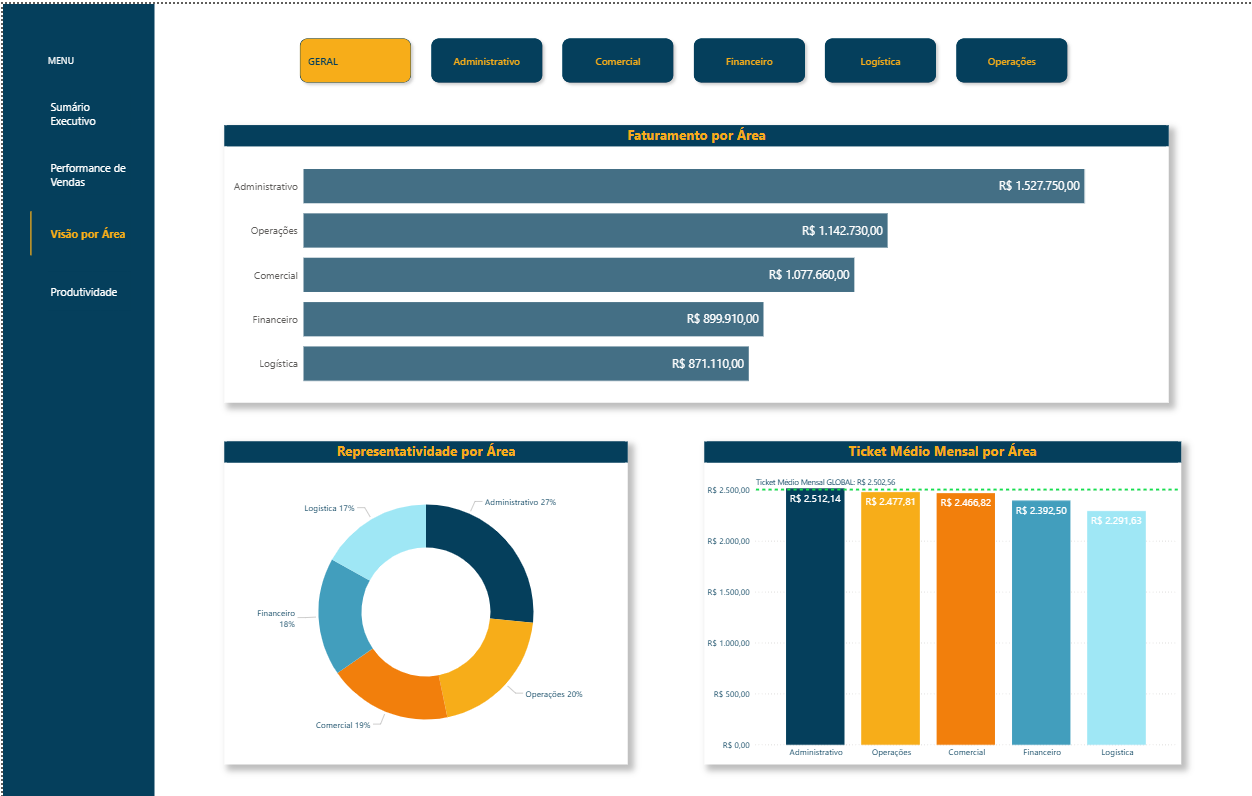

Layout of this report page (visuals, bound fields, positions):
{"tool":"powerbi","page":{"name":"Visão por Área ","canvas":[2000,1400],"ordinal":2},"visuals":[{"type":"advancedSlicerVisual","fields":{"Values":["dCadastroFuncionarios.Area"]},"box":[457.1,37.1,1265.7,105.7],"z":0},{"type":"clusteredBarChart","title":"Faturamento por Área","fields":{"Category":["Ranking_Top5_Vendas.Area"],"Y":["Tab_Medidas.Soma Valor Total Contratos"]},"box":[354.3,194.3,1511.4,444.3],"z":1000},{"type":"donutChart","title":"Representatividade por Área ","fields":{"Category":["dCadastroFuncionarios.Area"],"Y":["Tab_Medidas.Total Contratos Fechados"]},"box":[354.3,700,645.7,517.1],"z":2000},{"type":"clusteredColumnChart","title":"Ticket Médio Mensal por Área ","fields":{"Category":["dCadastroFuncionarios.Area"],"Y":["Tab_Medidas.Ticket Médio Mensal"]},"box":[1121.4,700,762.9,517.1],"z":3000},{"type":"shape","box":[0,0,242.5,1400],"z":4000},{"type":"shape","box":[71.2,67.5,100,43.8],"z":5000},{"type":"actionButton","box":[71.2,143.8,132.5,62.5],"z":6000},{"type":"shape","box":[33.8,332.5,21.2,70],"z":7000},{"type":"actionButton","box":[71.2,241.2,132.5,62.5],"z":8000},{"type":"actionButton","box":[71.2,336.2,132.5,62.5],"z":9000},{"type":"actionButton","box":[71.2,428.8,132.5,62.5],"z":10000}]}

Visuals, with their boxes on the page's 2000x1400 design canvas (x1, y1, x2, y2). These are canvas units, not pixel positions in the 1252x796 screenshot, which may show the page scaled, cropped or inside an application window:
advancedSlicerVisual - dCadastroFuncionarios.Area: bbox=(457, 37, 1723, 143)
"Faturamento por Área" clusteredBarChart: bbox=(354, 194, 1866, 639)
"Representatividade por Área " donutChart: bbox=(354, 700, 1000, 1217)
"Ticket Médio Mensal por Área " clusteredColumnChart: bbox=(1121, 700, 1884, 1217)
shape: bbox=(0, 0, 242, 1400)
shape: bbox=(71, 68, 171, 111)
actionButton: bbox=(71, 144, 204, 206)
shape: bbox=(34, 332, 55, 402)
actionButton: bbox=(71, 241, 204, 304)
actionButton: bbox=(71, 336, 204, 399)
actionButton: bbox=(71, 429, 204, 491)
